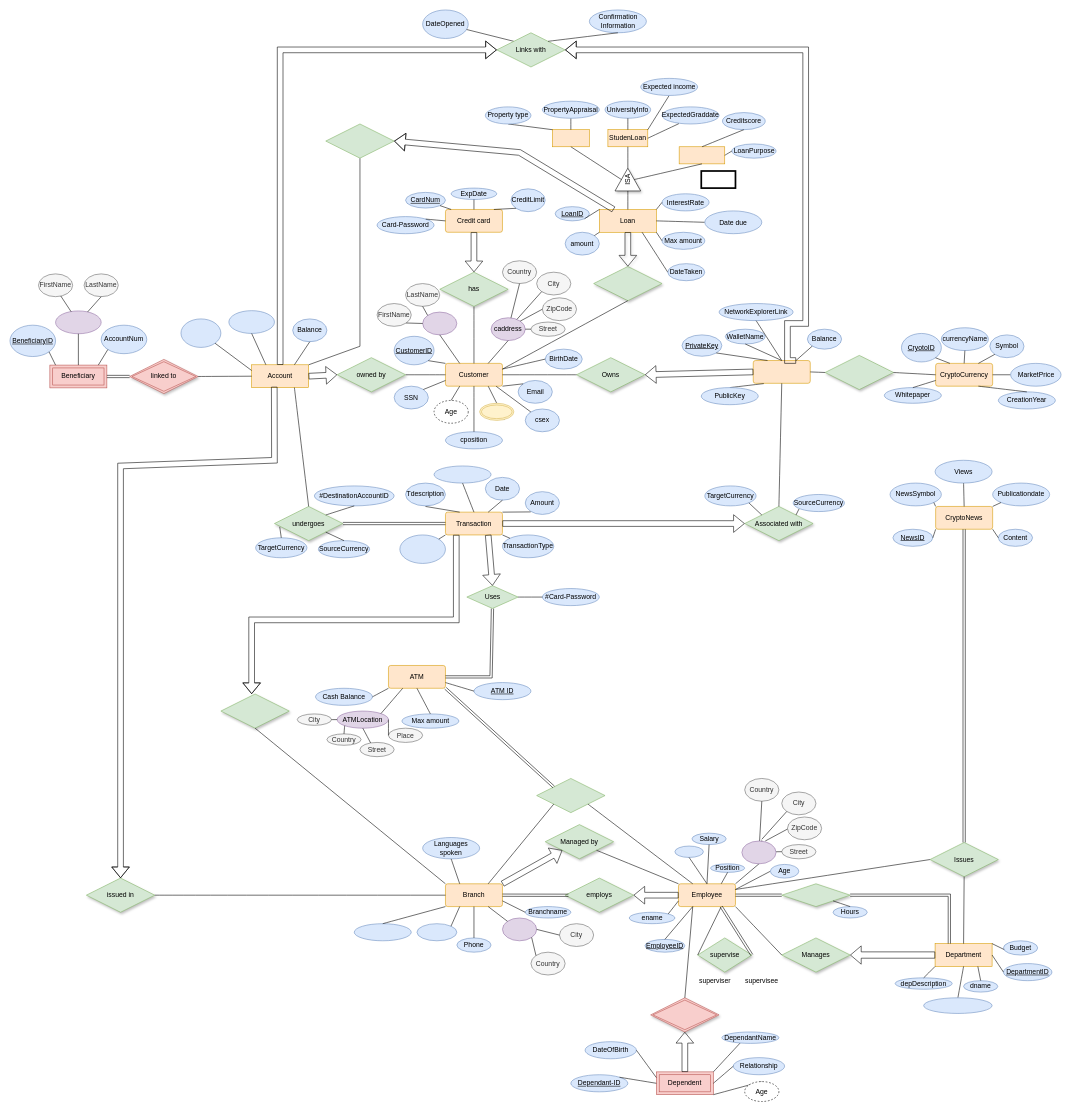
Image size: 1071x1112. Some labels were removed from this diagram. The shapes that lost their labels are listed below. From the top down, each one's centre as x and y in pixels, then its label:
the point at 359,140: pays
the point at 570,138: HomeLoan
the point at 702,155: PersonalLoan
the point at 718,179: Disjoint
the point at 628,284: Borrows
the point at 78,322: bname
the point at 200,332: AccountID
the point at 251,321: AccountType
the point at 439,323: cname
the point at 781,371: Crypto-wallet
the point at 859,373: Contains
the point at 496,411: cphone
the point at 462,474: Status
the point at 422,548: TransactionID
the point at 255,711: Conditioned in
the point at 570,795: refilled
the point at 688,851: esex
the point at 758,852: eaddress
the point at 816,896: works in
the point at 382,932: ATM Availability
the point at 436,932: BranchID
the point at 519,929: Location
the point at 685,1015: depends on
the point at 957,1005: numberOfEmployees
